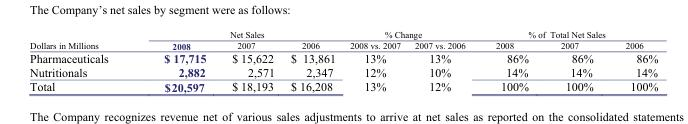table: (29, 29, 657, 93)
table column: (29, 29, 135, 93), (135, 29, 218, 93), (406, 29, 479, 93), (543, 29, 608, 93), (342, 29, 406, 93), (479, 29, 543, 93), (218, 29, 281, 93), (281, 29, 342, 93), (608, 29, 657, 93)
table column header: (29, 29, 657, 51)
table row: (29, 51, 657, 65), (29, 65, 657, 79), (29, 79, 657, 93), (29, 39, 657, 51), (29, 29, 657, 39)
table spanning cell: (29, 29, 135, 51), (135, 29, 342, 39), (479, 29, 657, 39), (342, 29, 479, 39)
